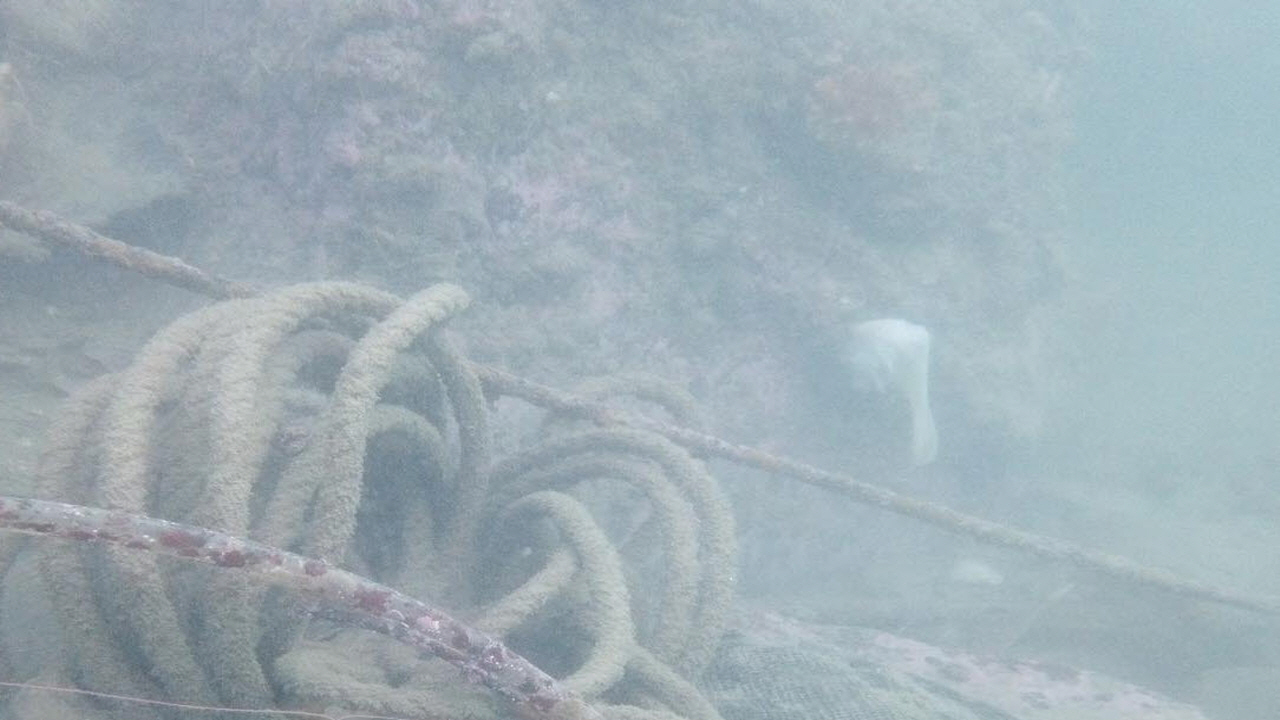bundle of ropes: (0, 273, 740, 720)
rope: (0, 190, 1279, 618)
